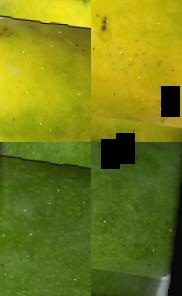PartiallyRipe: (0, 0, 91, 142), (91, 0, 182, 142)
Unripe: (0, 142, 91, 296), (91, 142, 182, 296)
